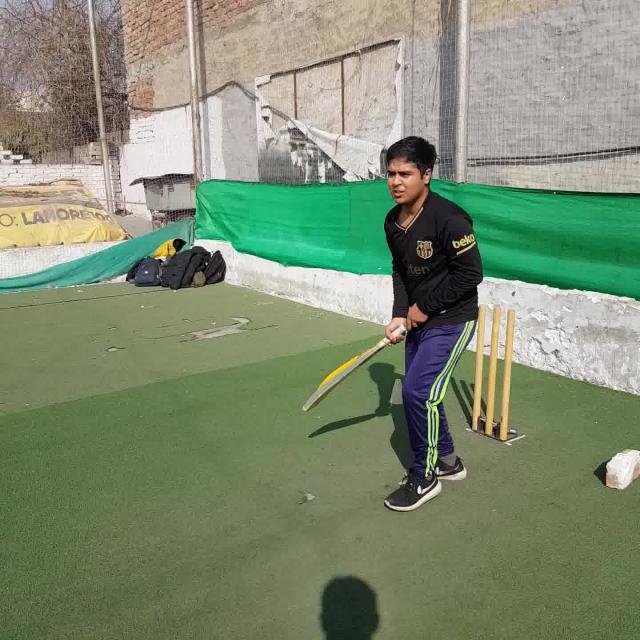bat: (302, 318, 412, 411)
